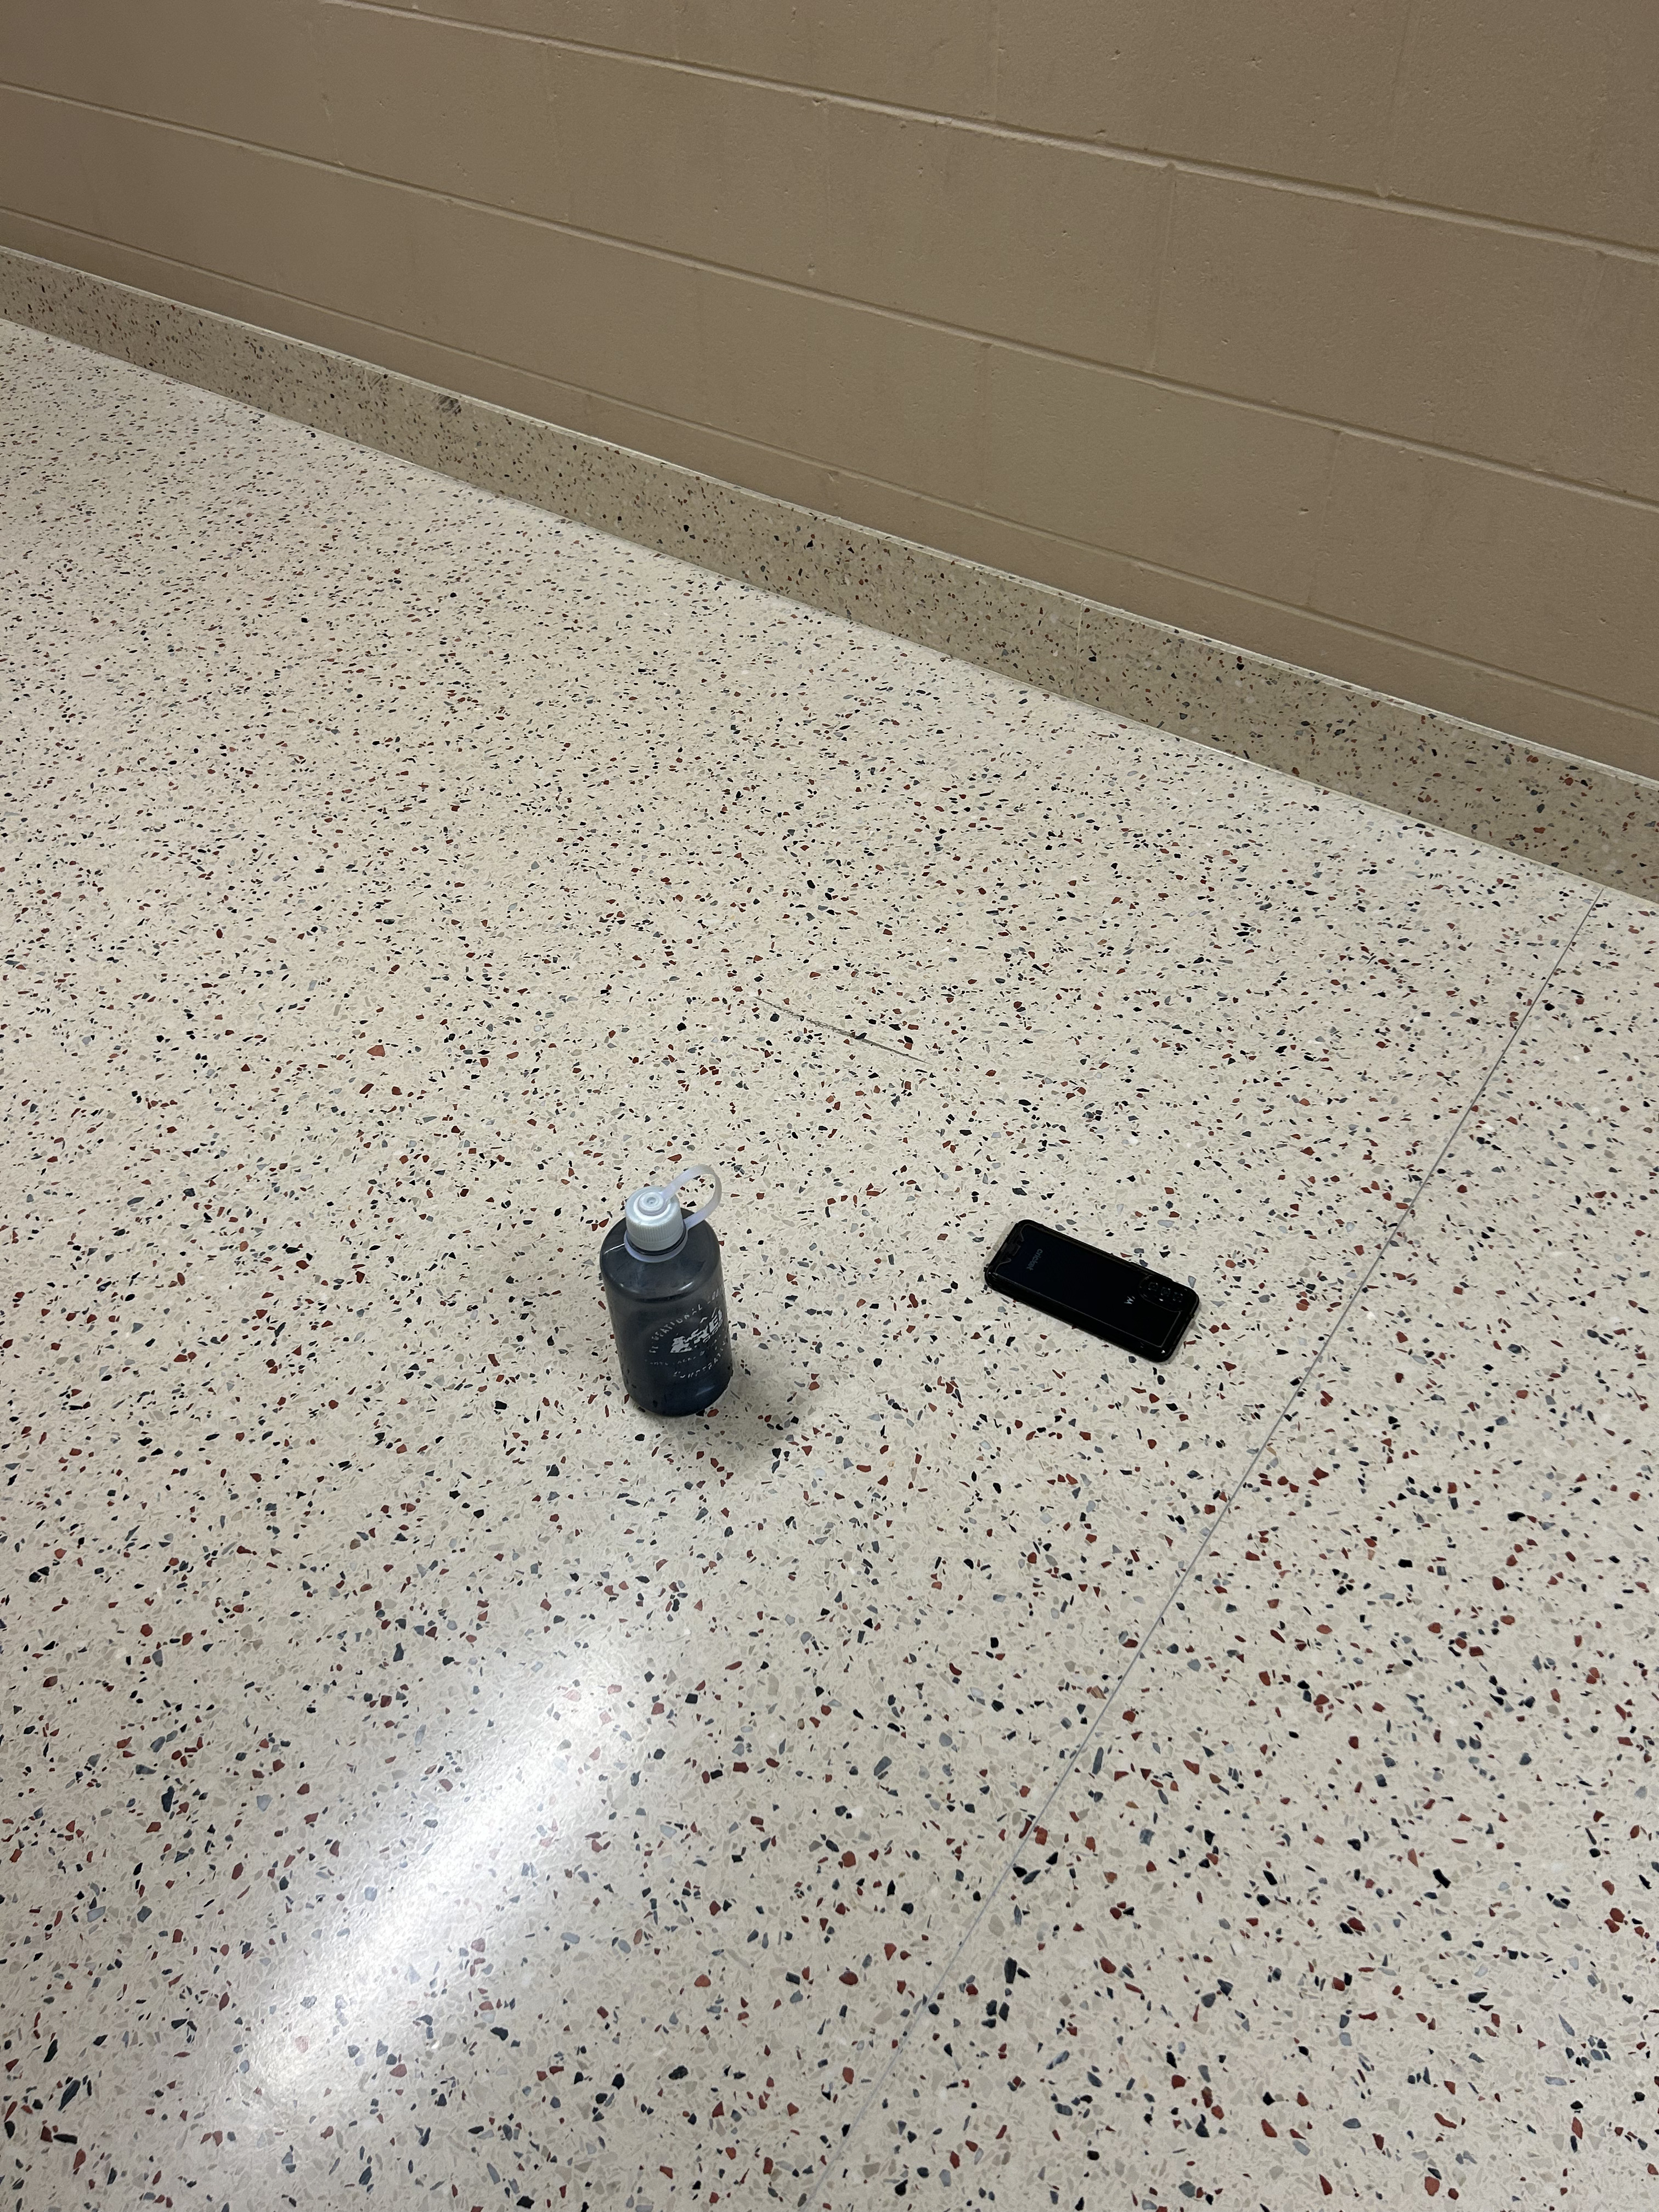bottle: (598, 1162, 735, 1428)
